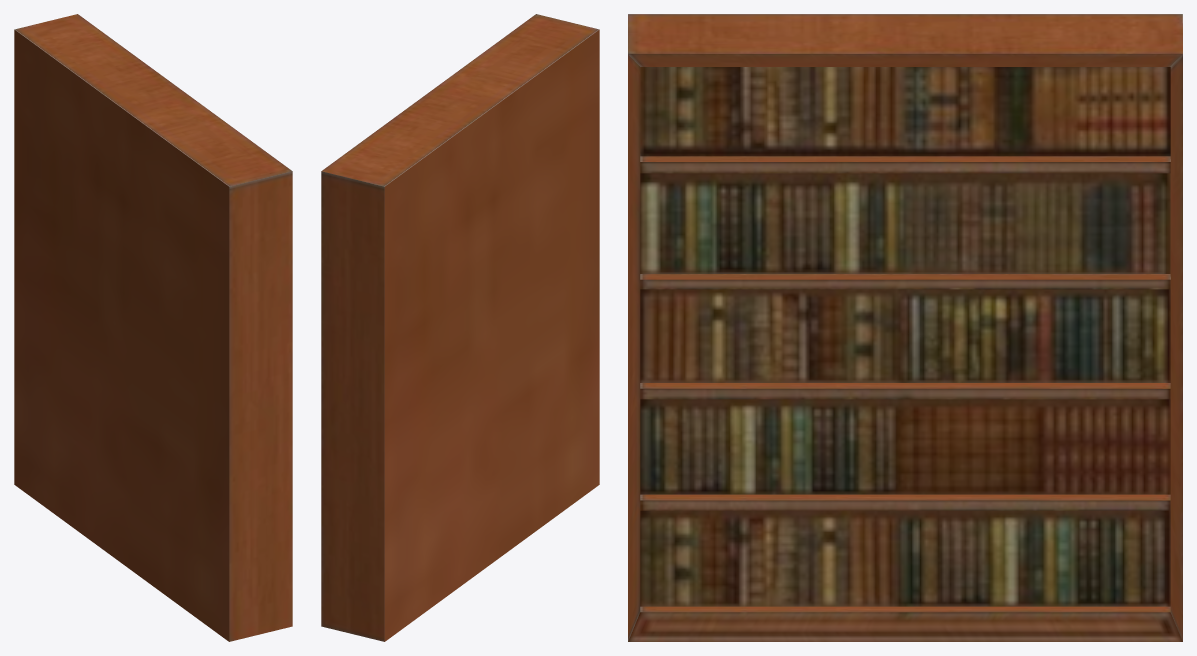
Rendered from psx_style_wooden_bookshelf_low_poly.glb.
3 views of the same model, side by side, from view 1: azimuth 30°, elevation 25°; view 2: azimuth 150°, elevation 25°; view 3: azimuth 270°, elevation 25° (orthographic). The views are drawn at different scales.
Parts seen in each view (by area): view 1: Shelf_Material.001_0; view 2: Shelf_Material.001_0; view 3: Shelf_Material.001_0.
Boxes of the visible parts, left/top/right/bottom form: Shelf_Material.001_0: left=14, top=14, right=292, bottom=641; Shelf_Material.001_0: left=321, top=14, right=599, bottom=641; Shelf_Material.001_0: left=628, top=14, right=1182, bottom=641.
Size of the model in its own units: 1.73 by 11.84 by 10.12.
1 material, 1 textured.
